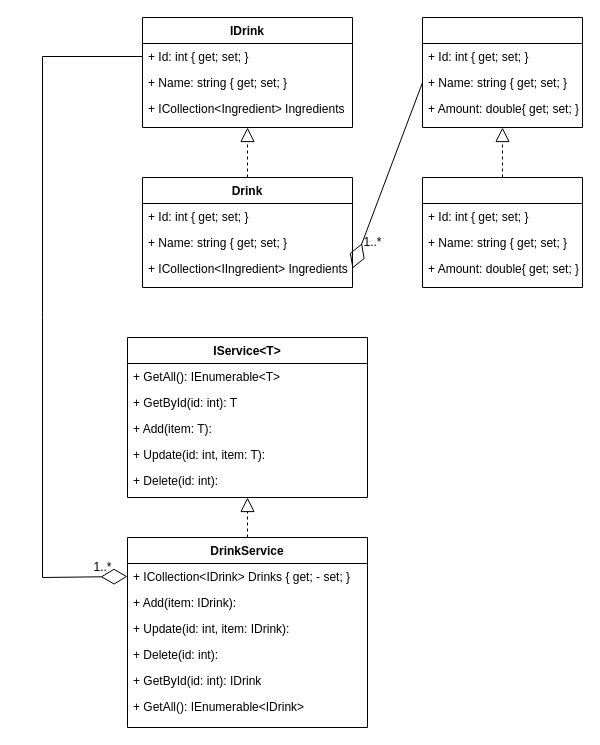
Image size: 600x745. Some labels were removed from this diagram. Here are the shapes that lost their labels. From the top down, the box of each, then its label:
(422, 16, 582, 128): IIngredient
(422, 176, 582, 288): Ingredient
